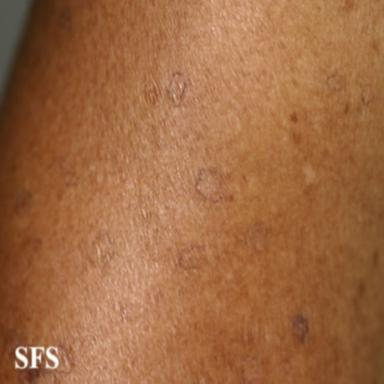Porokeratosis: (196, 168, 223, 202), (167, 72, 187, 106), (178, 244, 205, 269), (245, 223, 269, 251), (292, 311, 309, 344), (15, 189, 32, 214), (59, 4, 73, 31), (326, 72, 345, 91), (361, 84, 373, 105), (65, 170, 79, 187)
